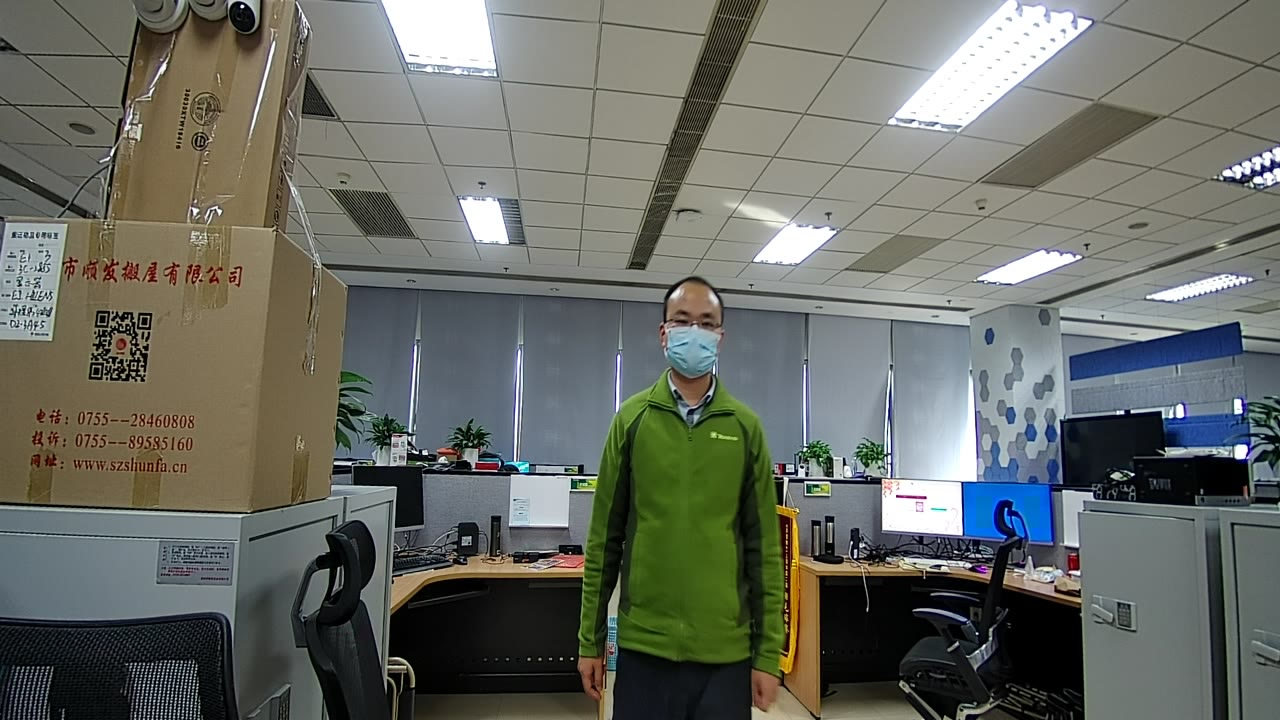face: (664, 284, 723, 386)
mask: (665, 321, 715, 378)
person: (612, 275, 769, 469)
